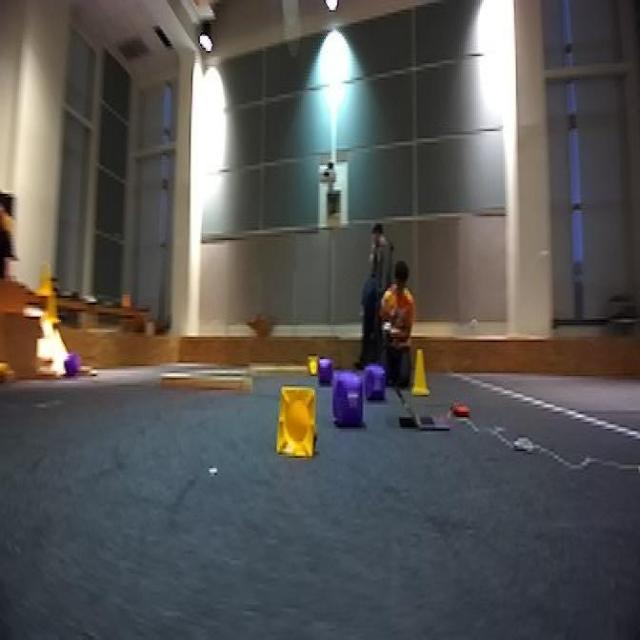frc_cone: (275, 383, 327, 468), (408, 347, 432, 395), (37, 264, 52, 301), (42, 293, 57, 328), (304, 354, 318, 376), (0, 359, 10, 388)
frc_cube: (335, 371, 366, 424), (362, 363, 388, 398), (62, 351, 78, 381), (314, 356, 334, 378)
